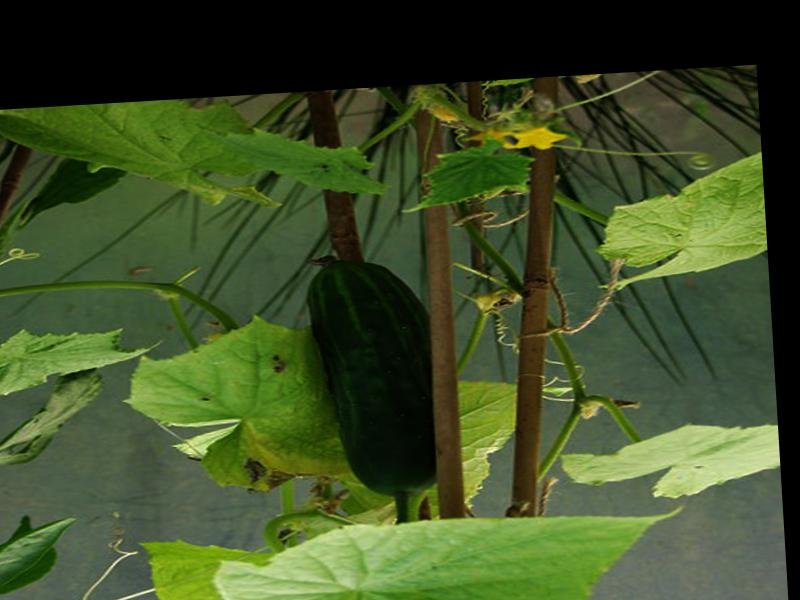Cucumber: (302, 251, 440, 500)
